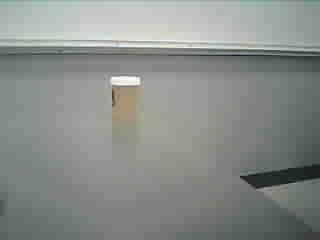Bottle B: (106, 72, 149, 130)
